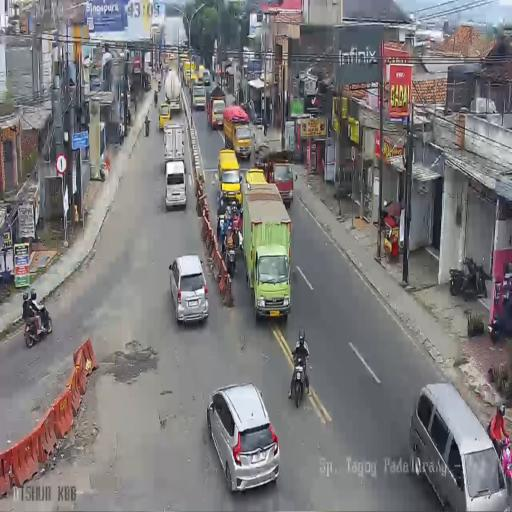3: (222, 104, 251, 156), (164, 68, 182, 115), (206, 95, 224, 129), (182, 61, 194, 85)
car: (410, 380, 509, 508), (206, 382, 282, 492), (168, 254, 208, 325), (264, 157, 295, 208), (217, 148, 241, 204), (164, 160, 188, 212), (245, 168, 268, 193), (158, 103, 172, 131), (192, 83, 206, 110), (198, 65, 209, 84)
truck: (449, 256, 490, 300), (23, 301, 53, 348), (288, 350, 309, 408), (489, 298, 512, 344), (231, 206, 243, 244)
